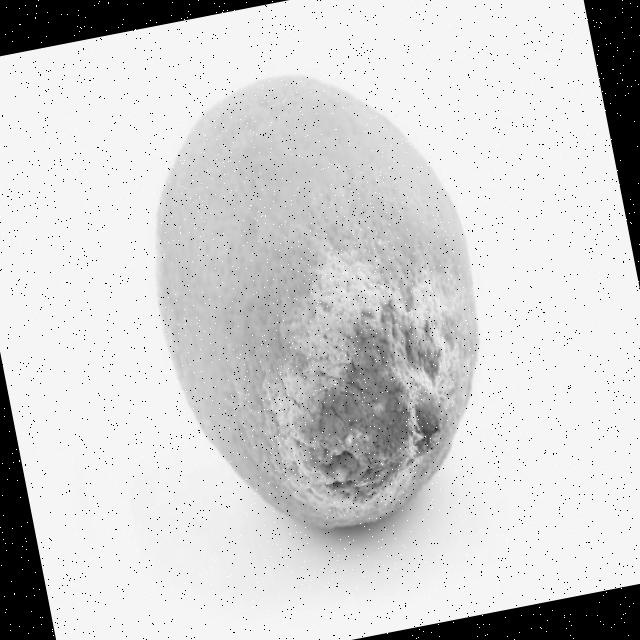Rotten: (118, 42, 516, 558)
